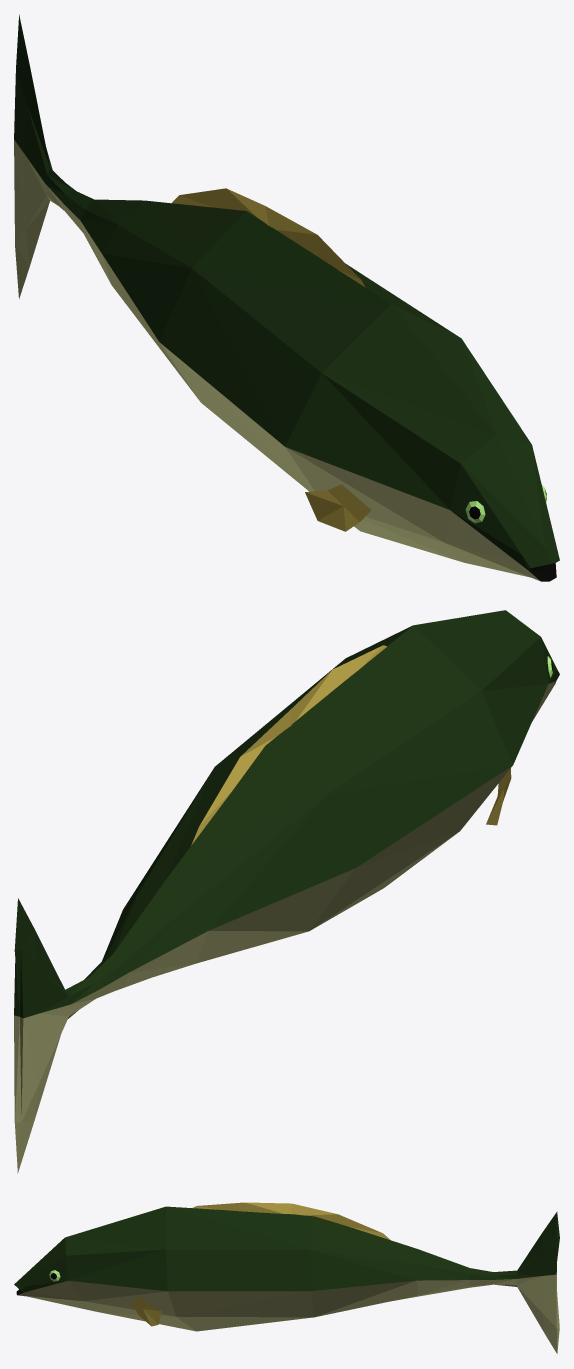
File: Minnow_000016.obj
The picture shows the model from 3 angles, top to bottom: view 1: azimuth 30°, elevation 25°; view 2: azimuth 150°, elevation 25°; view 3: azimuth 270°, elevation 25°; orthographic projection. The views are drawn at different scales.
Size of the model in its own units: 0.6759 by 0.9146 by 3.04.
